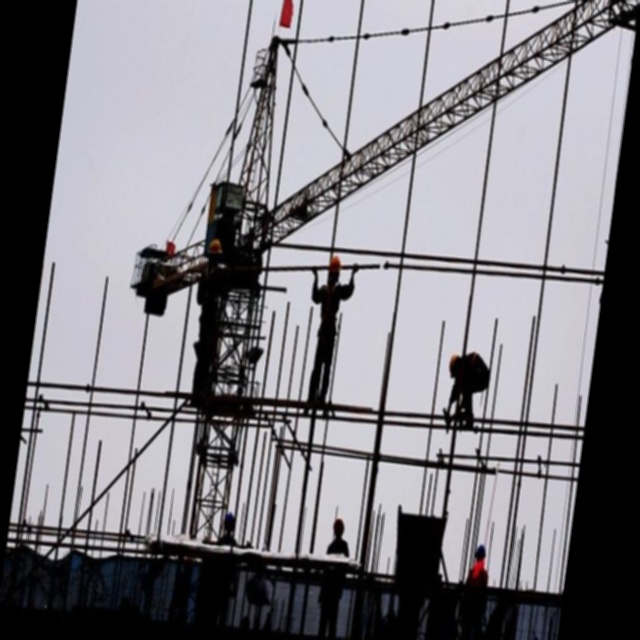Con_Casco: (326, 255, 343, 284)
